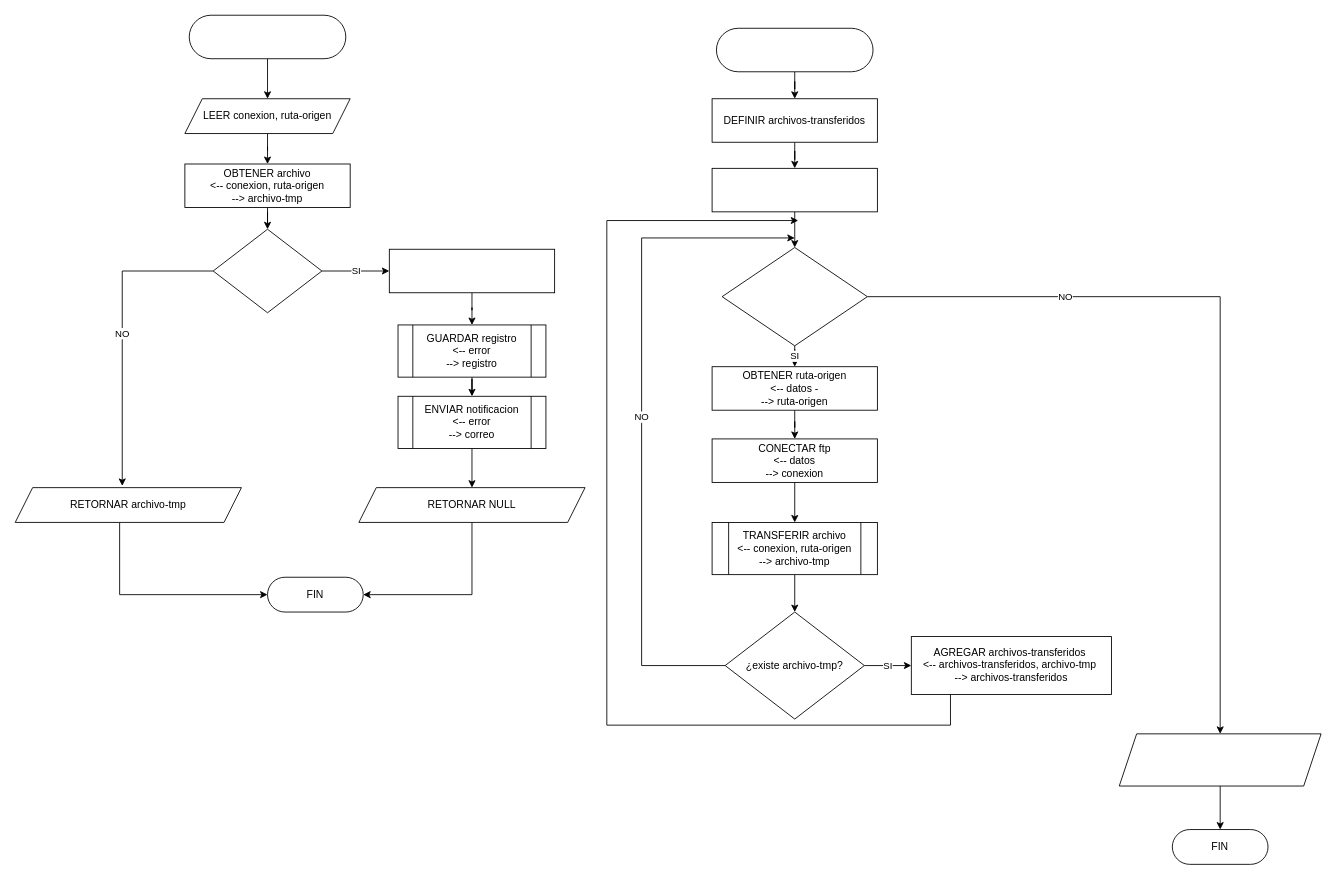
Image size: 1336x880. Some labels were removed from this diagram. Here are the shapes that lost their labels. From the top down, the centre of each, then its label:
(x=267, y=36): INICIO TRANSFERIR ARCHIVO
(x=794, y=49): INICIO TRANSFERIR ARCHIVOS
(x=794, y=189): OBTENER datos de conexión <-- void --> datos de conexión
(x=267, y=270): NOT archivo
(x=471, y=270): OBTENER error <-- conexion --> error
(x=794, y=296): PARA datos en datos-conexión
(x=1219, y=759): RETORNAR archivos-transferidos
